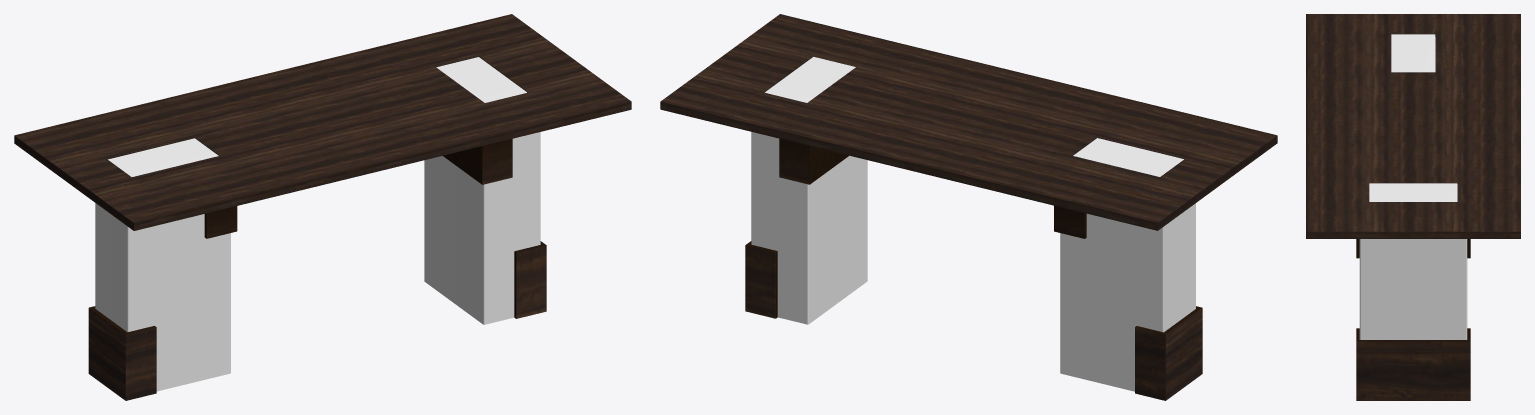
Rendered from table_web.glb.
The picture shows the model from 3 angles, left to right: view 1: azimuth 30°, elevation 25°; view 2: azimuth 150°, elevation 25°; view 3: azimuth 270°, elevation 25°; orthographic projection. The views are drawn at different scales.
Visible parts, largest first — view 1: Top, Base2, Base1, Dec4, Dec3, Cut2, Cut1, Dec1, Dec2; view 2: Top, Base2, Base1, Dec4, Dec3, Cut2, Cut1, Dec1, Dec2; view 3: Top, Base1, Dec3, Cut2, Cut1.
Part boxes in pixels (x1=…): Top: x1=14, y1=14, x2=631, y2=230; Base2: x1=95, y1=203, x2=230, y2=391; Base1: x1=424, y1=132, x2=540, y2=324; Dec4: x1=88, y1=306, x2=156, y2=400; Dec3: x1=514, y1=241, x2=546, y2=318; Cut2: x1=108, y1=138, x2=218, y2=176; Cut1: x1=436, y1=57, x2=526, y2=102; Dec1: x1=443, y1=139, x2=512, y2=184; Dec2: x1=204, y1=206, x2=237, y2=238; Top: x1=660, y1=14, x2=1277, y2=230; Base2: x1=1060, y1=203, x2=1195, y2=391; Base1: x1=751, y1=132, x2=867, y2=324; Dec4: x1=1135, y1=306, x2=1202, y2=400; Dec3: x1=745, y1=241, x2=777, y2=318; Cut2: x1=1073, y1=138, x2=1183, y2=176; Cut1: x1=765, y1=56, x2=855, y2=102; Dec1: x1=779, y1=138, x2=848, y2=184; Dec2: x1=1054, y1=205, x2=1086, y2=238; Top: x1=1306, y1=14, x2=1520, y2=238; Base1: x1=1359, y1=239, x2=1467, y2=339; Dec3: x1=1356, y1=328, x2=1470, y2=400; Cut2: x1=1391, y1=34, x2=1435, y2=72; Cut1: x1=1369, y1=183, x2=1457, y2=201.
Bounding box in the file's own units: 1.83 × 0.7605 × 0.762.
9 materials, 5 textured.
